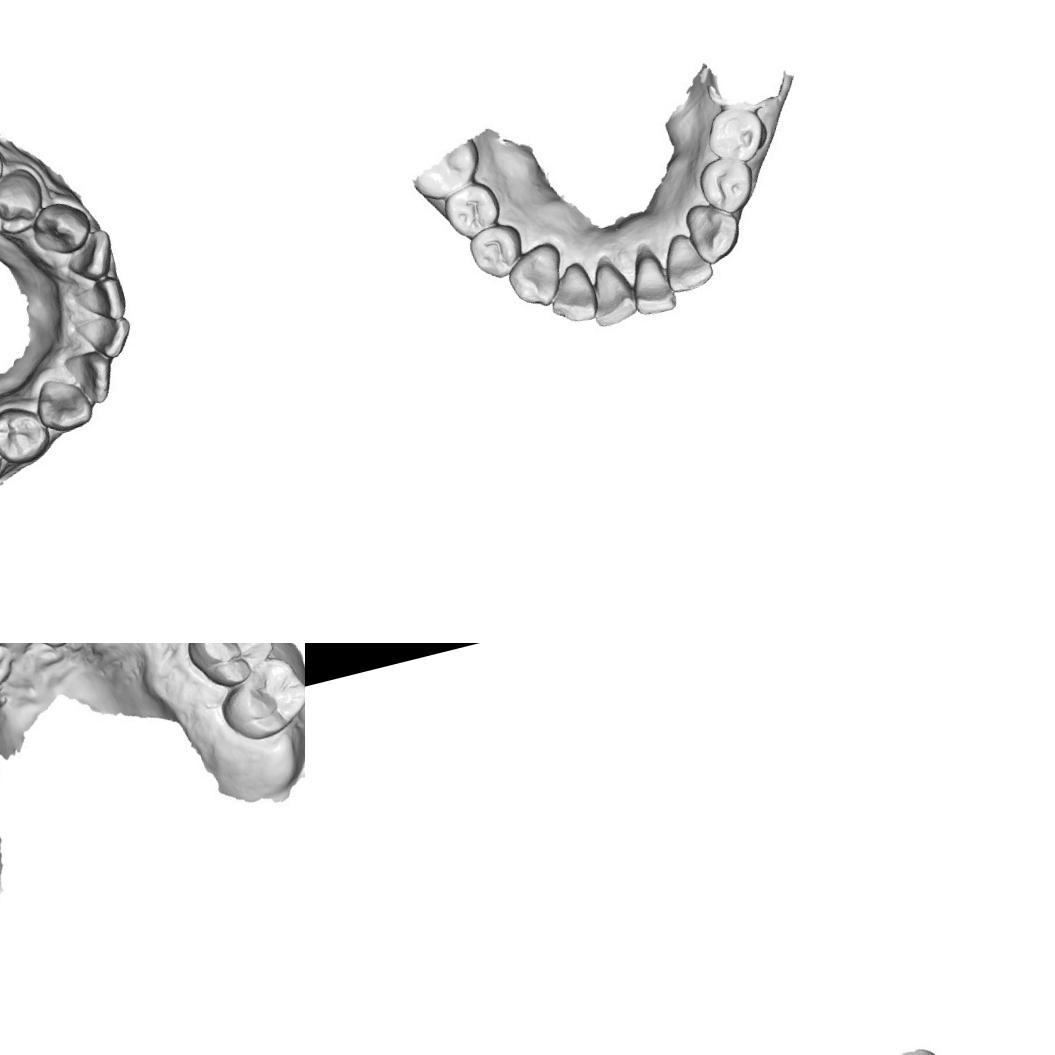canine: (498, 239, 569, 313), (26, 192, 98, 262), (28, 369, 96, 442), (680, 196, 746, 266)
incisor: (580, 255, 640, 330), (60, 343, 127, 410), (74, 302, 142, 366), (56, 224, 123, 286), (544, 258, 604, 327), (623, 250, 677, 320), (74, 272, 135, 328), (658, 234, 714, 290)
molar: (210, 648, 305, 747), (174, 643, 285, 694)
premolar: (700, 100, 770, 168), (692, 150, 760, 218), (438, 174, 502, 242), (468, 221, 528, 279), (0, 170, 46, 237), (0, 400, 46, 462)
